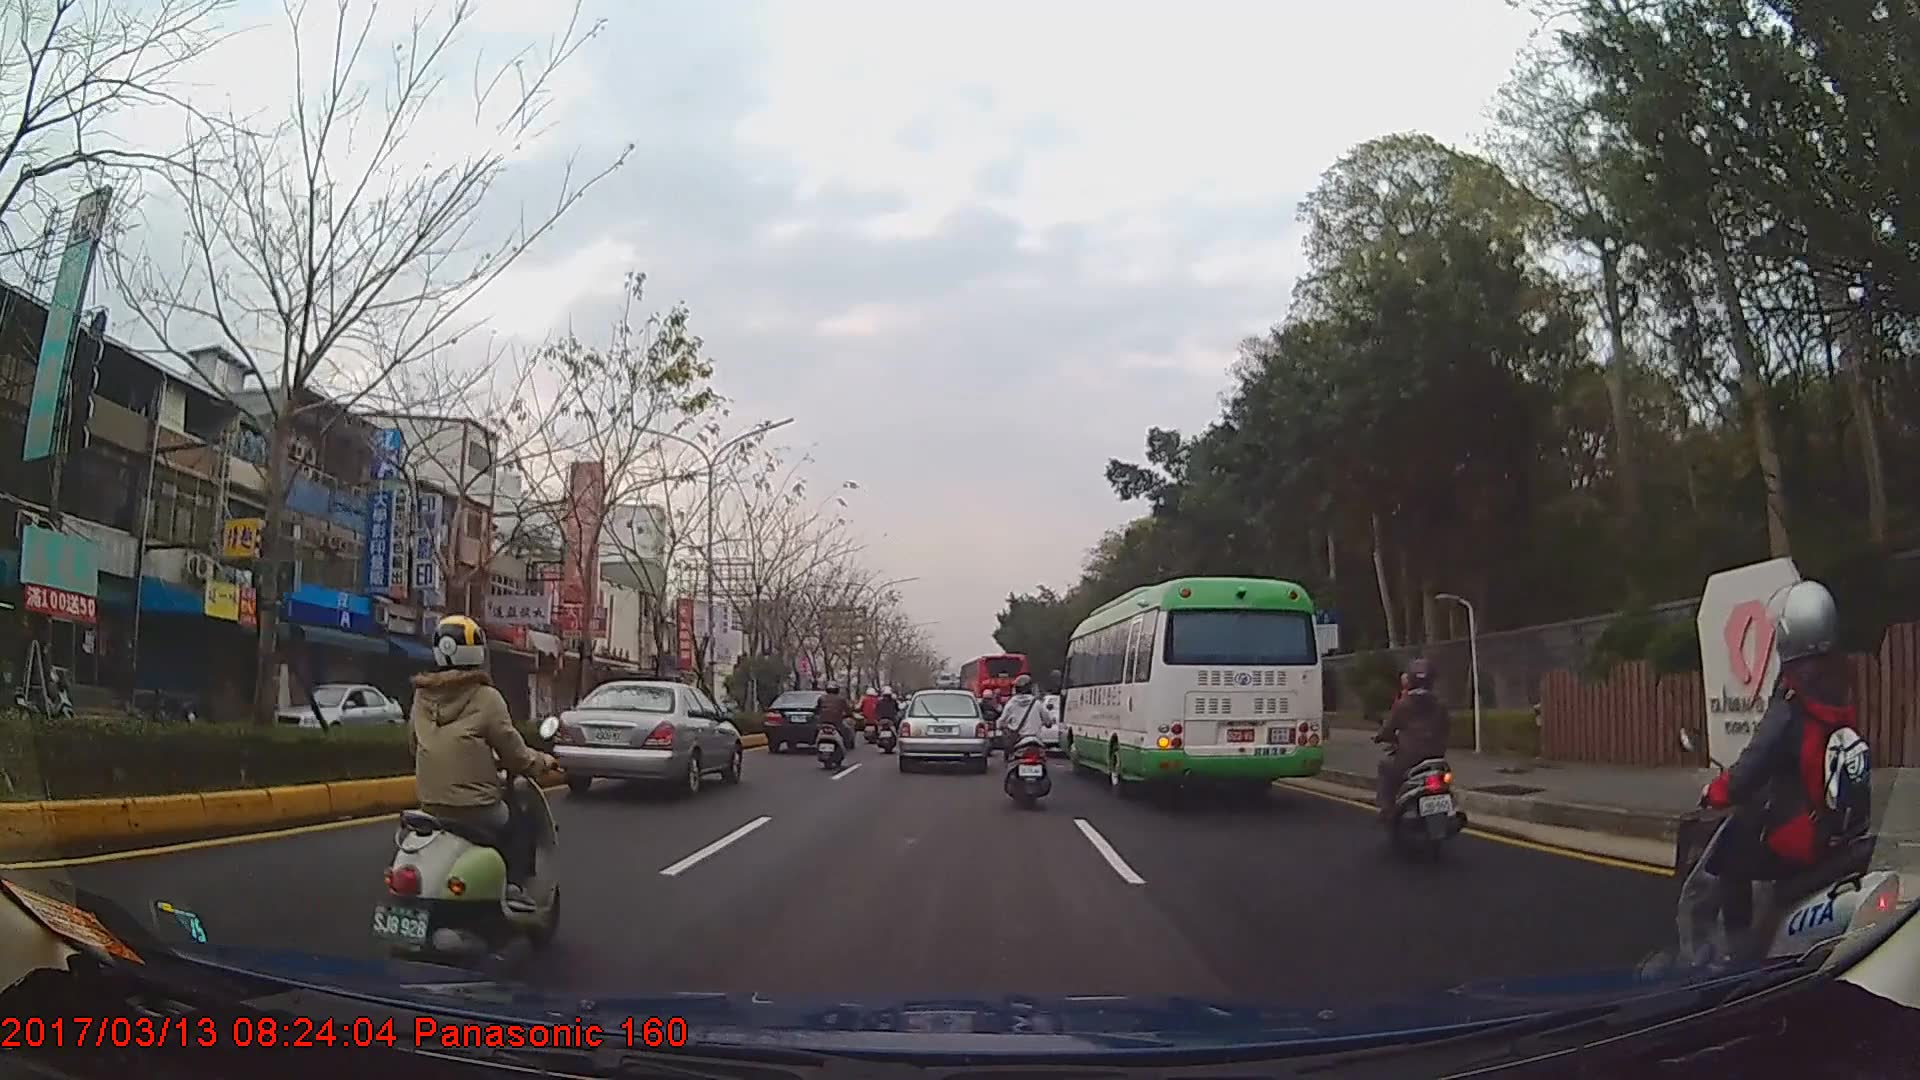rider: (1666, 551, 1920, 1039), (367, 612, 562, 992), (1367, 652, 1468, 861), (991, 676, 1051, 809), (813, 679, 851, 771), (874, 687, 899, 754), (857, 688, 883, 746), (980, 691, 1005, 744)
vehicle: (1055, 575, 1323, 798), (551, 677, 740, 799), (264, 672, 408, 743), (896, 688, 989, 771), (762, 687, 855, 754), (957, 650, 1026, 719)
